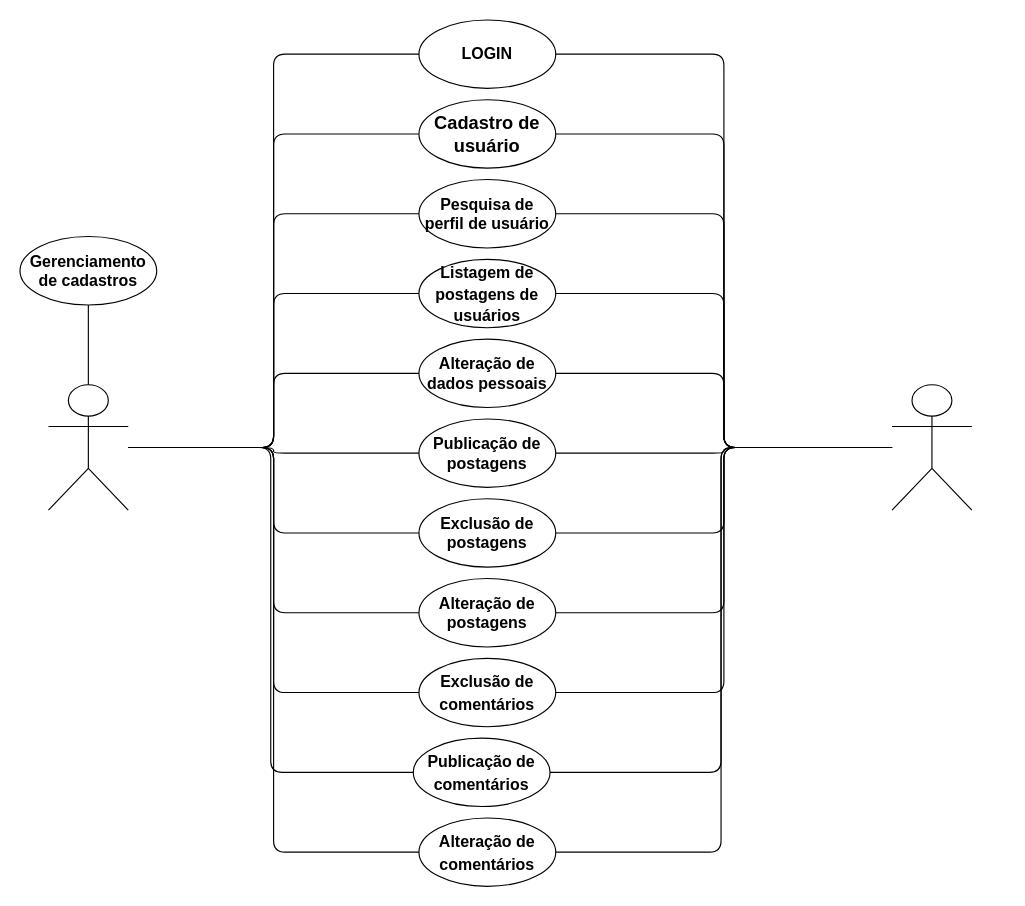
This 1025x906 diagram has some shape labels left out. The shapes that lost their labels are listed below. From the top down, each one's centre as x and y in pixels, then its label:
At (87,447): "Administrador".
At (931,447): "Usuário comum".
